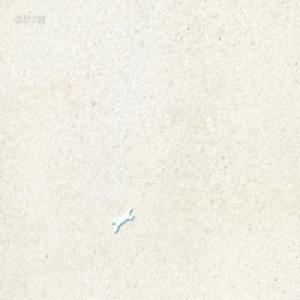Wrench: (112, 206, 134, 232)
